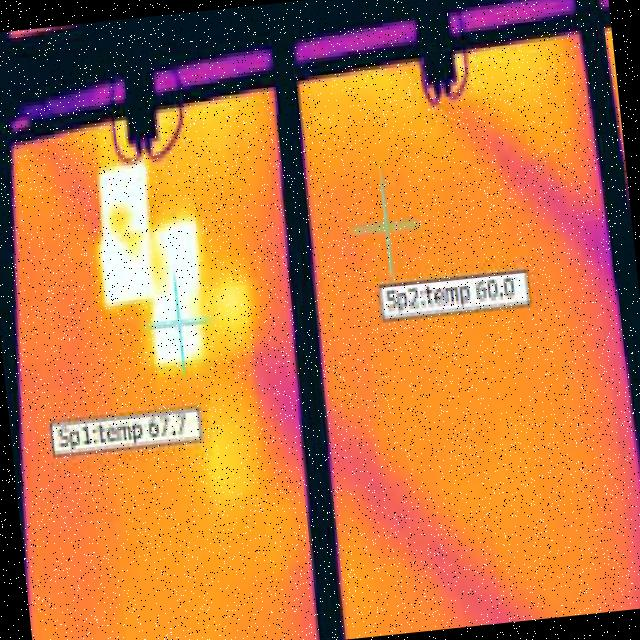Hotspot: (131, 209, 216, 378), (91, 163, 159, 306)
